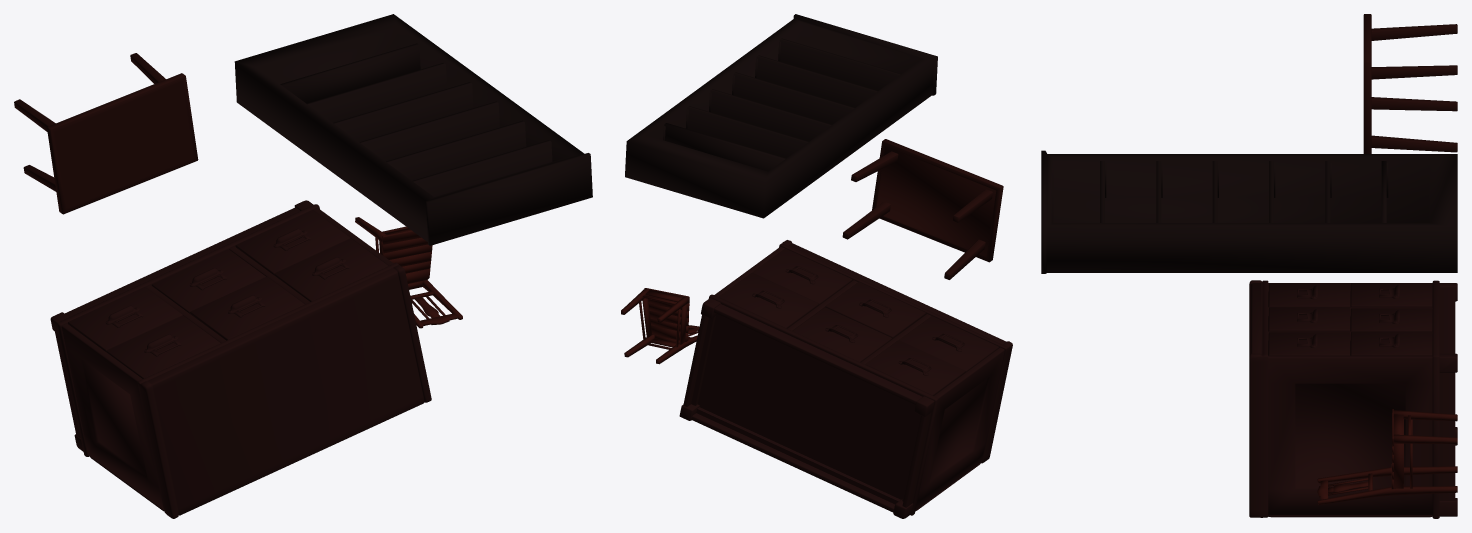
Rendered from scene_0007_diffuse.obj.
3 renders of one model, left to right at view 1: azimuth 30°, elevation 25°; view 2: azimuth 150°, elevation 25°; view 3: azimuth 270°, elevation 25°, orthographic. The views are drawn at different scales.
Visible parts, largest first — view 1: diffuse_cabinet_01, diffuse_shelf_03, diffuse_table_02, diffuse_chair_04; view 2: diffuse_cabinet_01, diffuse_shelf_03, diffuse_table_02, diffuse_chair_04; view 3: diffuse_shelf_03, diffuse_cabinet_01, diffuse_table_02, diffuse_chair_04.
Part boxes in pixels (bbox=[...]): diffuse_cabinet_01: bbox=[50, 200, 431, 518]; diffuse_shelf_03: bbox=[234, 14, 592, 245]; diffuse_table_02: bbox=[14, 53, 198, 214]; diffuse_chair_04: bbox=[355, 217, 462, 328]; diffuse_cabinet_01: bbox=[679, 240, 1012, 518]; diffuse_shelf_03: bbox=[625, 14, 937, 218]; diffuse_table_02: bbox=[842, 139, 1003, 279]; diffuse_chair_04: bbox=[621, 288, 699, 364]; diffuse_shelf_03: bbox=[1041, 150, 1457, 273]; diffuse_cabinet_01: bbox=[1249, 280, 1457, 518]; diffuse_table_02: bbox=[1363, 14, 1457, 153]; diffuse_chair_04: bbox=[1317, 409, 1457, 504].
Bounding box in the file's own units: 222 × 208 × 189.
